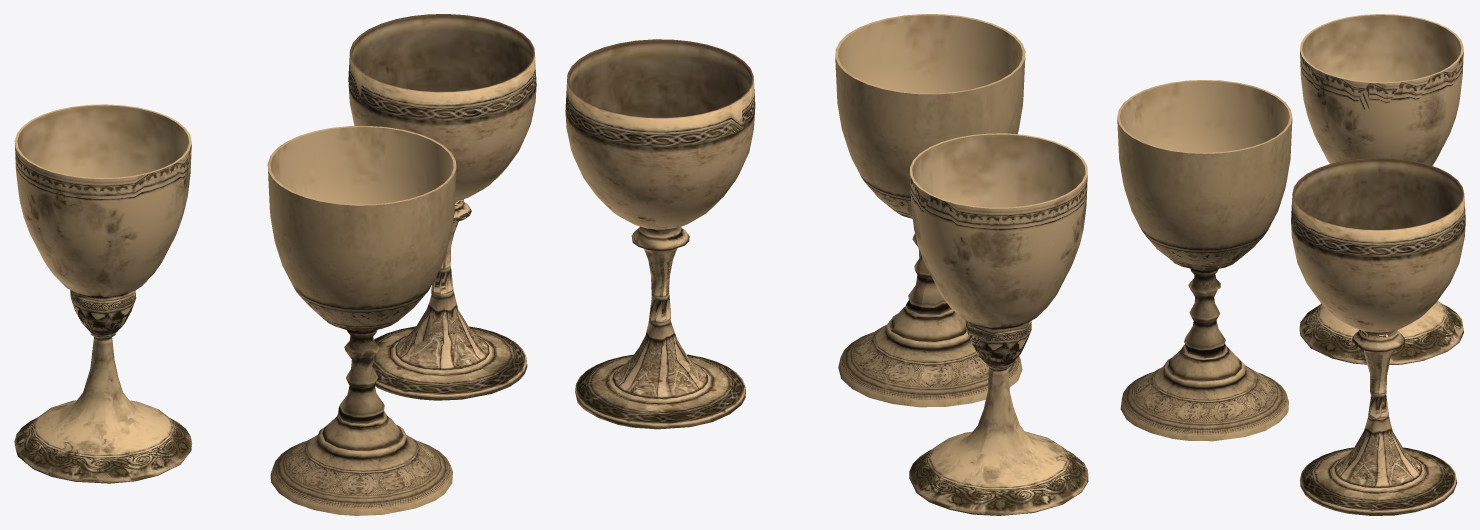
The model's file is brass-goblets.glb.
The picture shows the model from 3 angles, left to right: view 1: azimuth 30°, elevation 25°; view 2: azimuth 150°, elevation 25°; view 3: azimuth 270°, elevation 25°; orthographic projection. The views are drawn at different scales.
Parts seen in each view (by area): view 1: brass_goblets; view 2: brass_goblets; view 3: brass_goblets.
Boxes of the visible parts, bbox=[...] form: brass_goblets: bbox=[14, 14, 536, 515]; brass_goblets: bbox=[565, 14, 1088, 515]; brass_goblets: bbox=[1117, 14, 1465, 515].
Size of the model in its own units: 0.4531 by 0.2734 by 0.2976.
3 materials, 3 textured.
